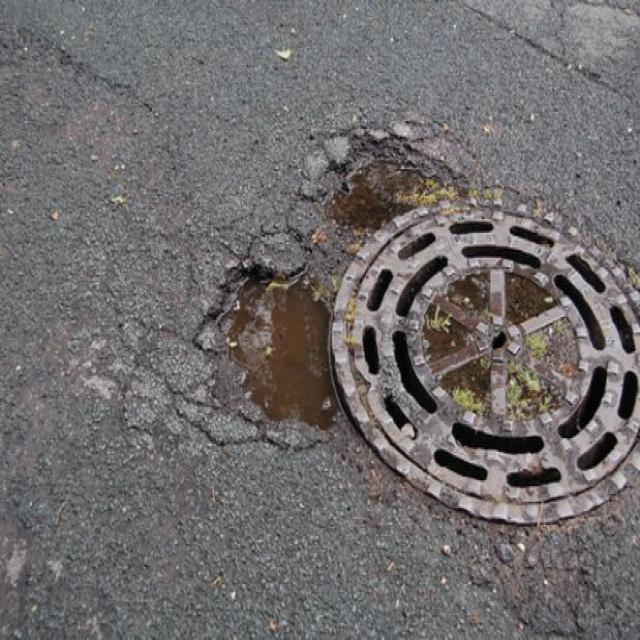pothole: (202, 246, 342, 444), (304, 120, 441, 232)
